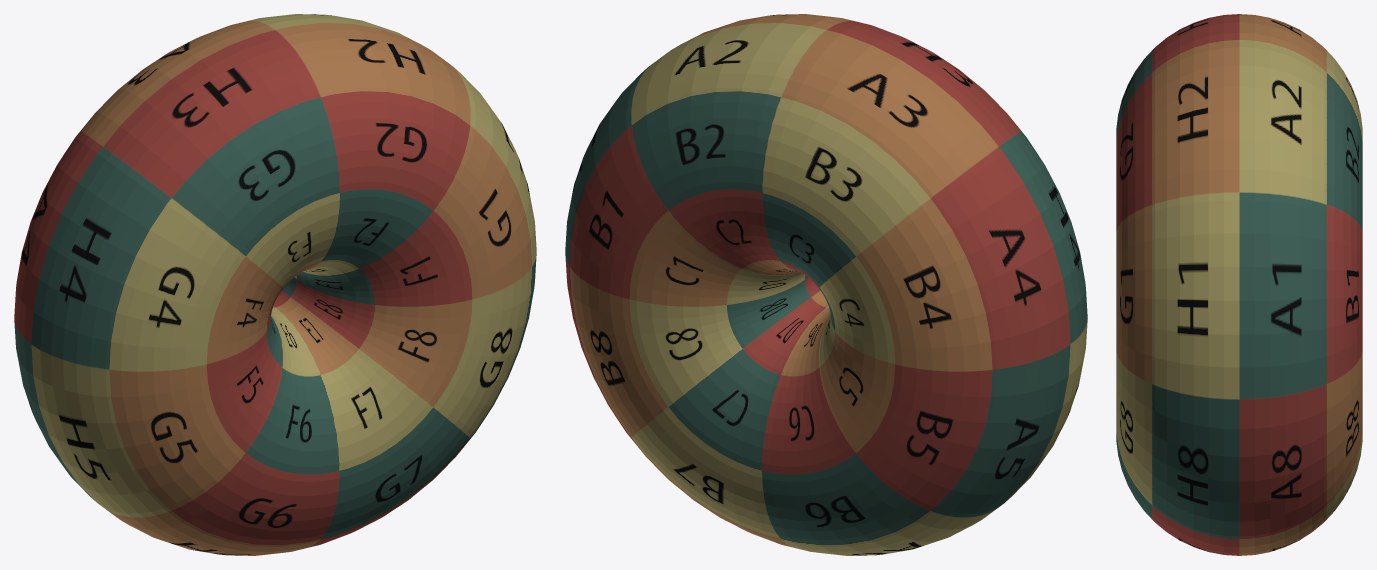
The model's file is texture_torus_R1_r26.glb.
The picture shows the model from 3 angles, left to right: view 1: azimuth 30°, elevation 25°; view 2: azimuth 150°, elevation 25°; view 3: azimuth 270°, elevation 25°; orthographic projection. The views are drawn at different scales.
Visible parts, largest first — view 1: world; view 2: world; view 3: world.
Boxes of the visible parts, x1=… form: world: x1=14, y1=14, x2=536, y2=555; world: x1=565, y1=14, x2=1087, y2=555; world: x1=1116, y1=14, x2=1362, y2=555.
Bounding box in the file's own units: 19.6 × 19.56 × 8.92.
Materials: 1 (1 with a texture image).
